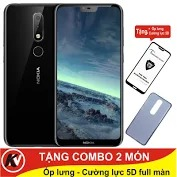nokia: (51, 1, 129, 146), (3, 1, 56, 146)
